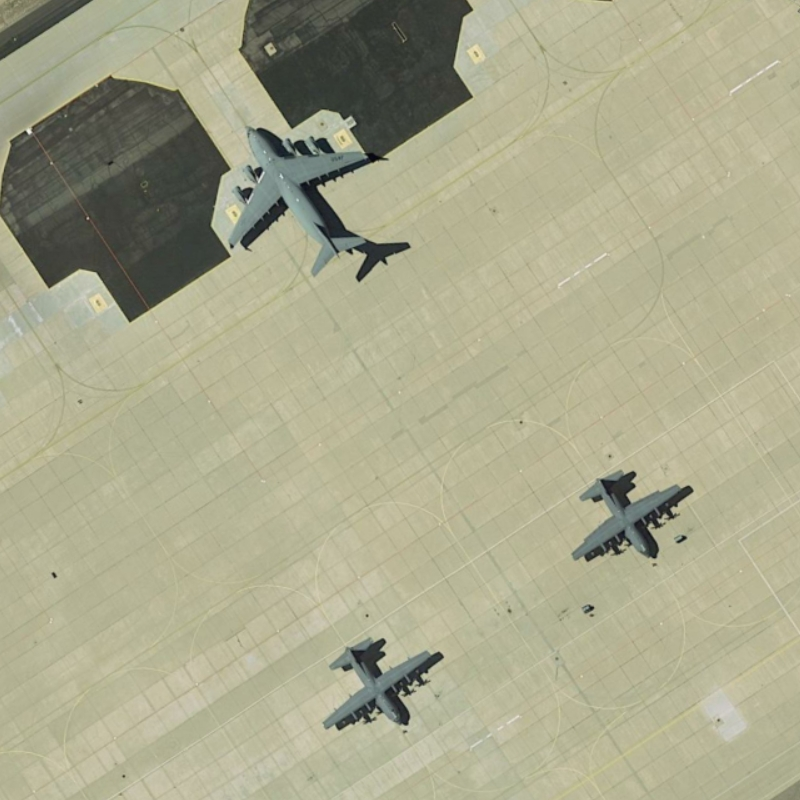A2: (566, 460, 700, 572), (317, 637, 439, 734)
A3: (225, 112, 392, 276)
